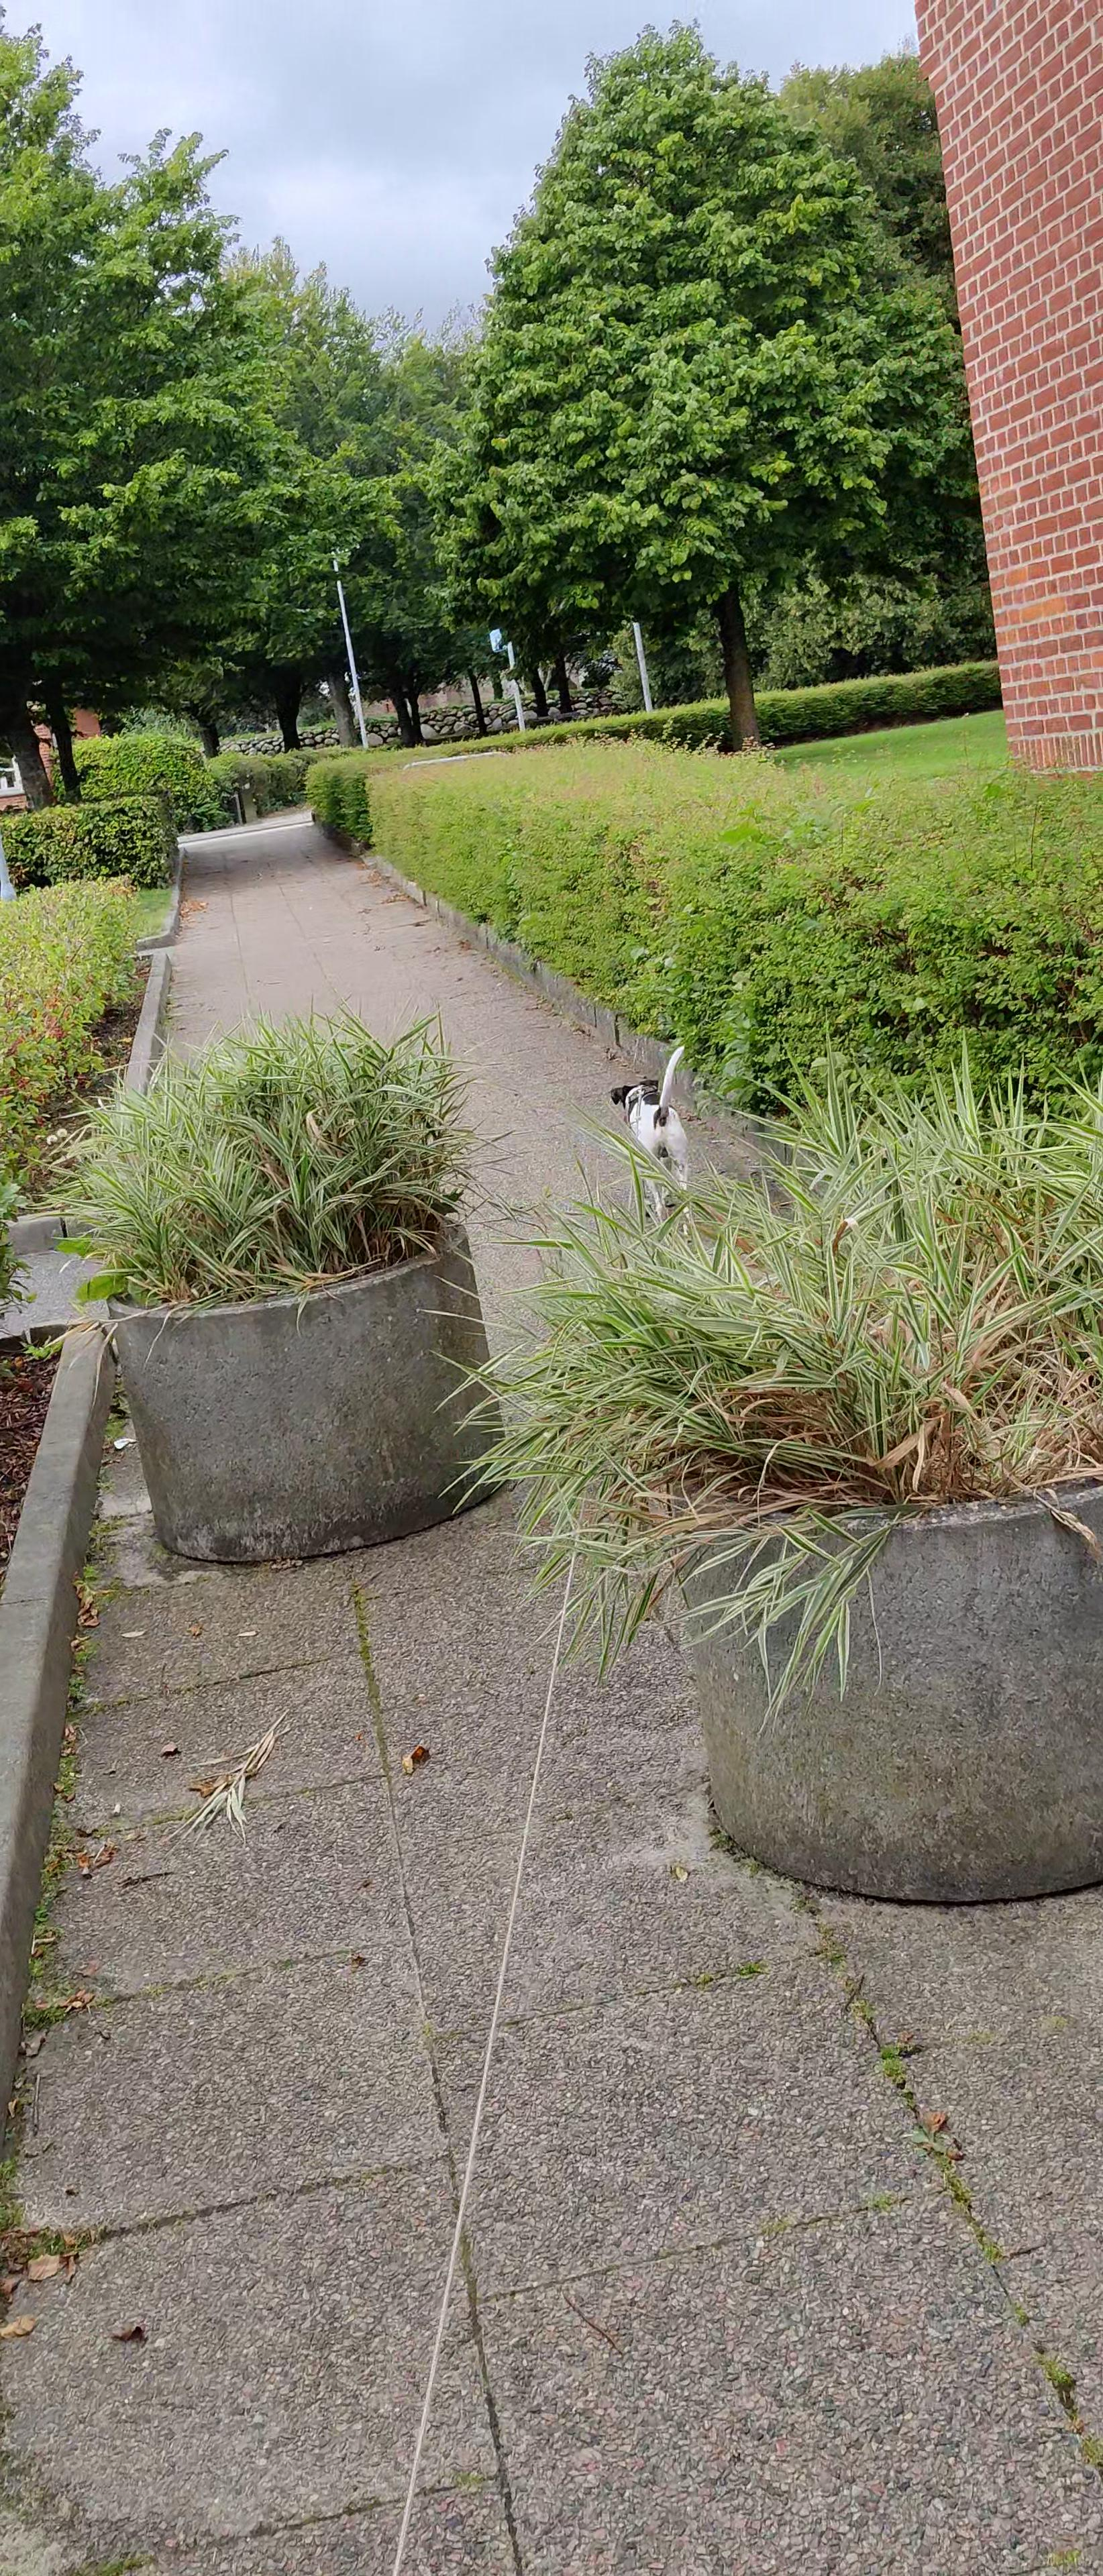Dog: (607, 1040, 700, 1253)
